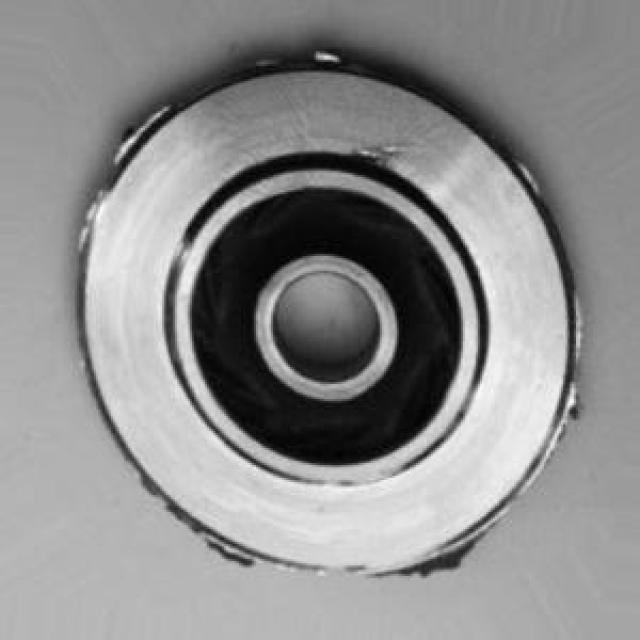Defect: (409, 519, 496, 589)
